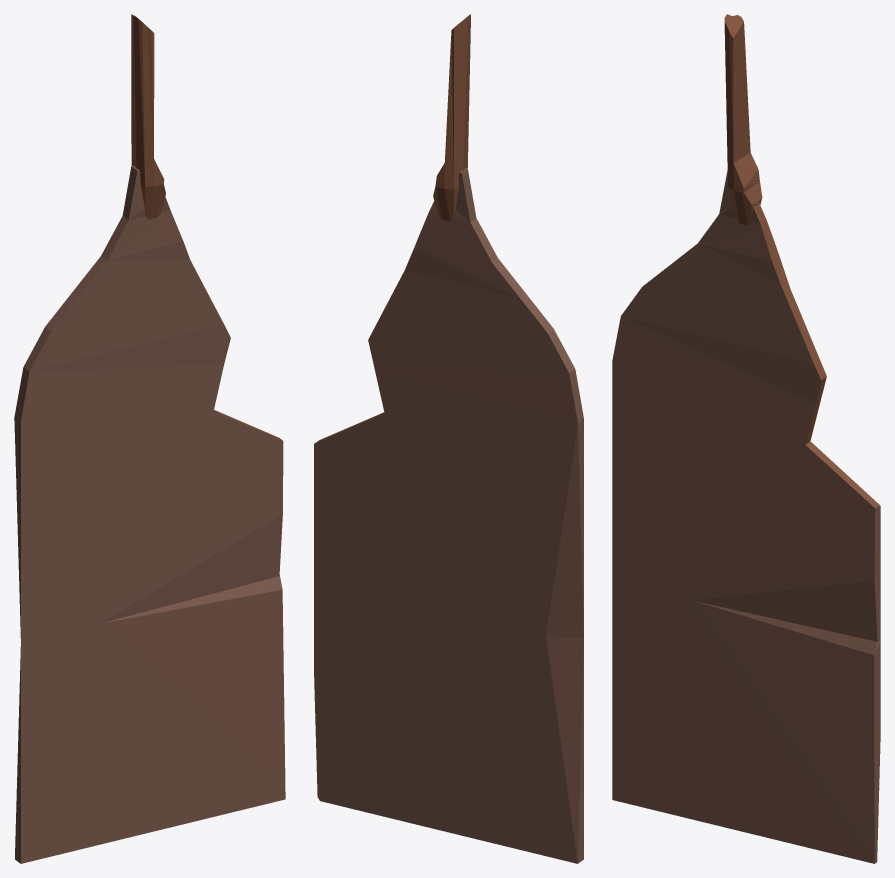
Rendered from Oar Broken_2.fbx.
3 renders of one model, left to right at view 1: azimuth 30°, elevation 25°; view 2: azimuth 150°, elevation 25°; view 3: azimuth 330°, elevation 25°, orthographic.
Visible parts, largest first — view 1: Oar Broken_2; view 2: Oar Broken_2; view 3: Oar Broken_2.
Boxes of the visible parts, x1,y1,x2,y2 form: Oar Broken_2: [14, 14, 285, 863]; Oar Broken_2: [314, 14, 583, 863]; Oar Broken_2: [612, 14, 880, 863].
Size of the model in its own units: 0.4464 by 1.32 by 0.0498.
